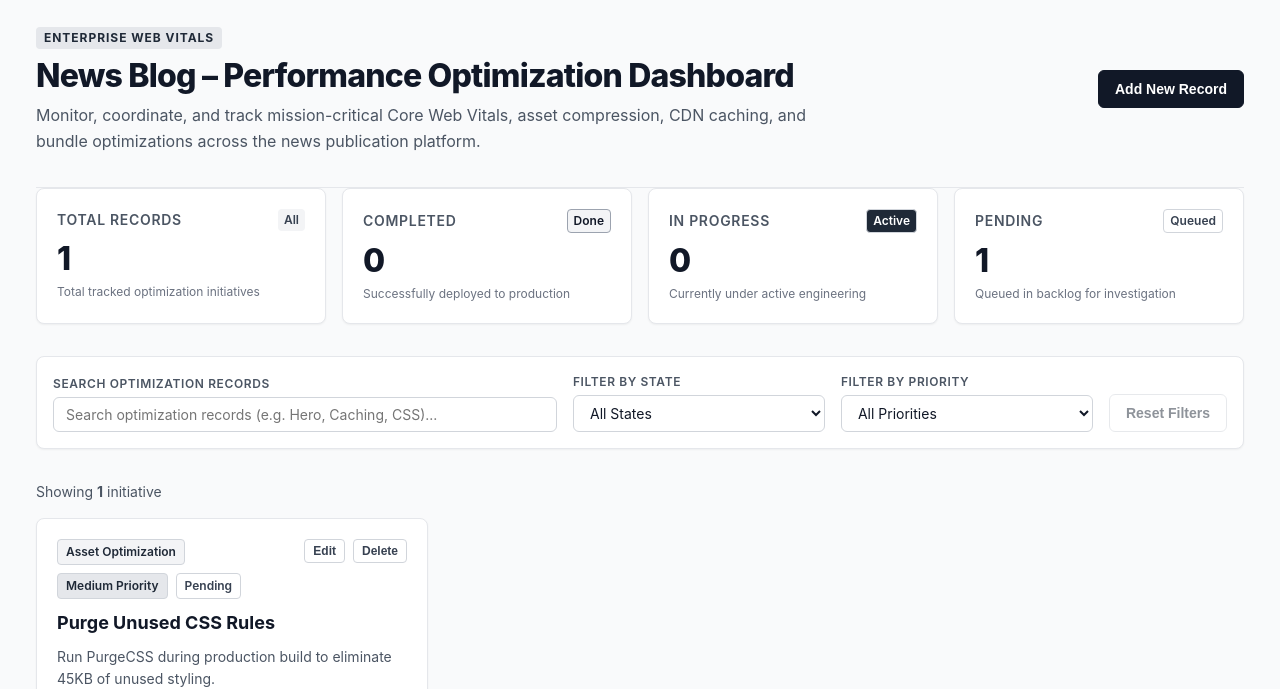
Test case: B. Record Management Requirements › deletes an optimization record and decreases total count
Expected: the heading "Purge Unused CSS Rules" is shown, x1=57 y1=612 x2=275 y2=633
Click the button "Delete". click: (380, 551)
box: x1=353 y1=539 x2=407 y2=563
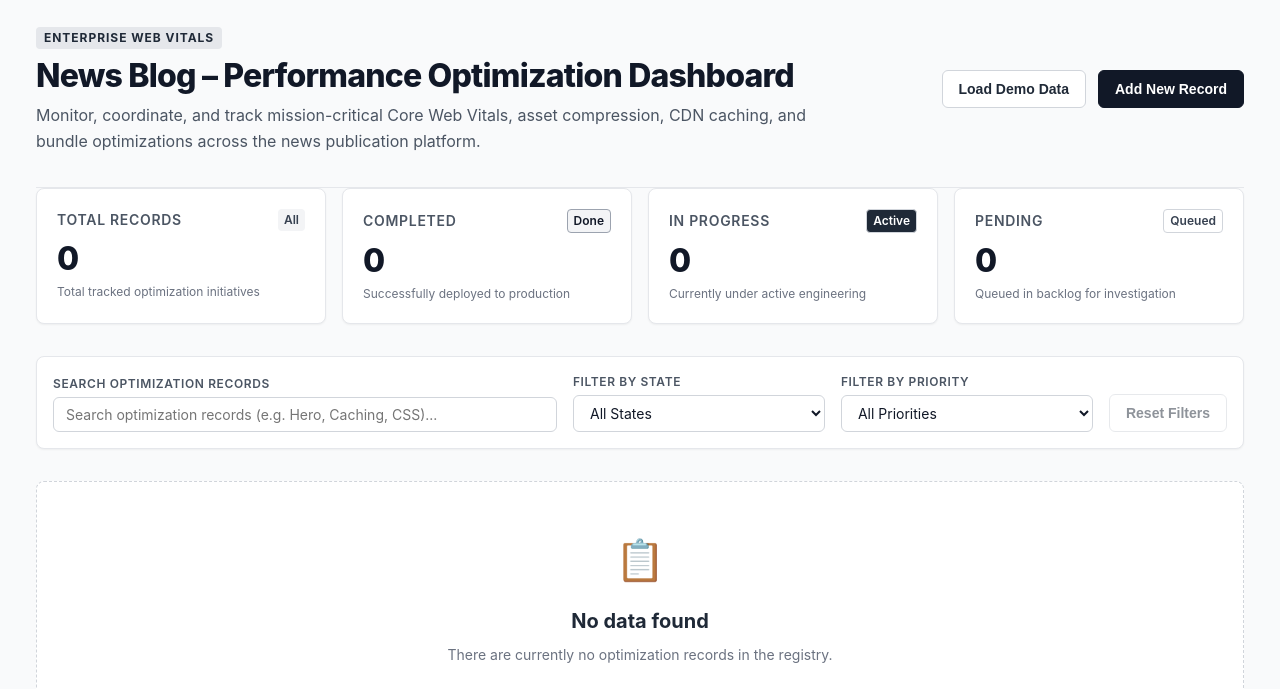
Result: the heading "Purge Unused CSS Rules" is gone
Result: the heading "No data found" is shown at x1=571 y1=606 x2=709 y2=636
Result: the text "0" below "Total Records" is shown at x1=57 y1=239 x2=79 y2=278
